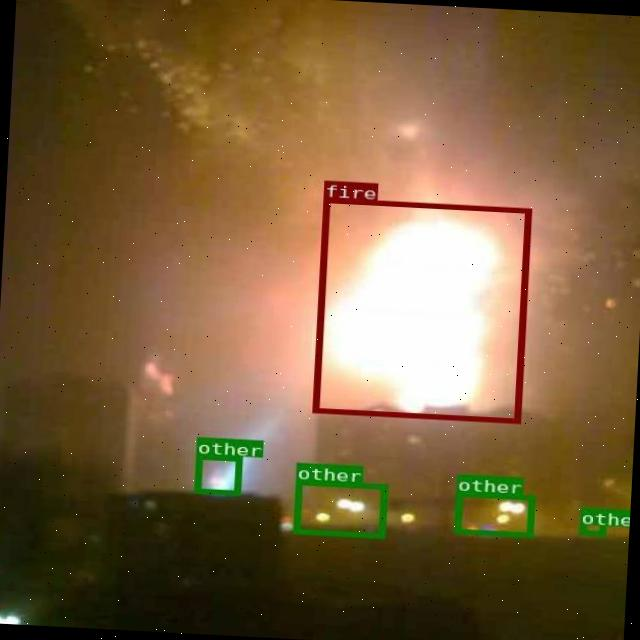fire: (311, 197, 530, 423)
